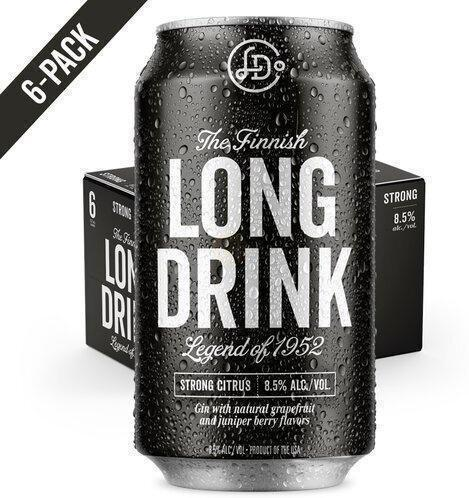tin can: (130, 12, 379, 497)
